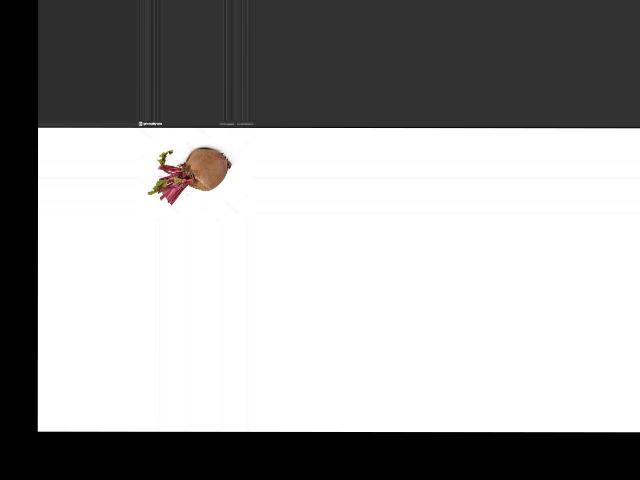beet: (148, 146, 231, 204)
